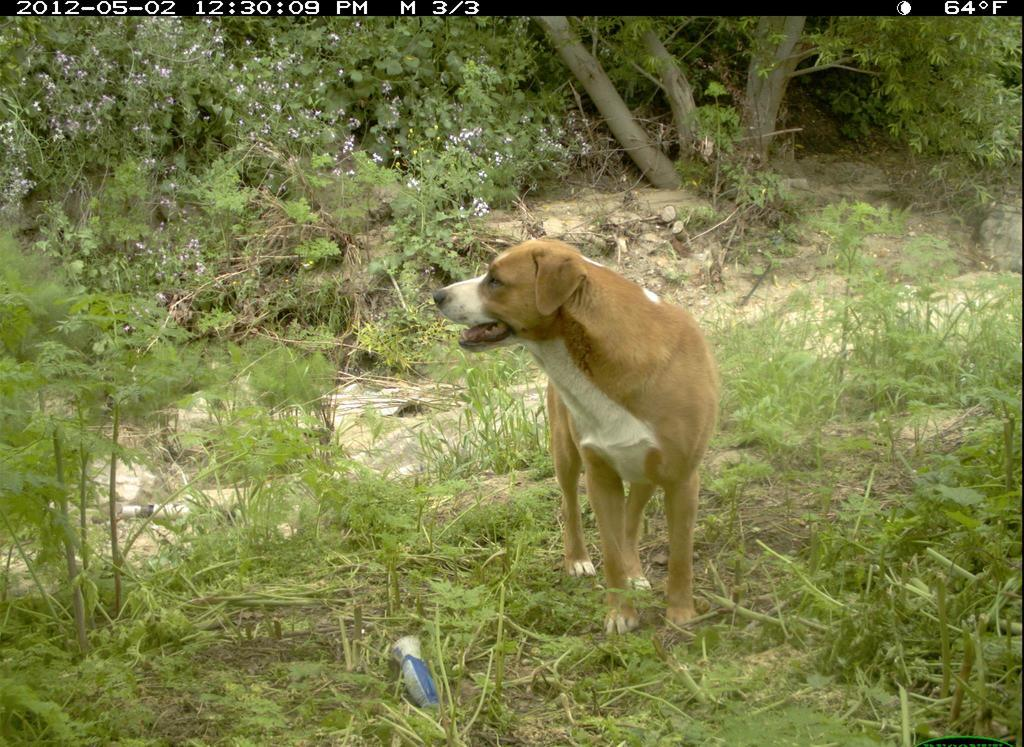dog: (429, 233, 725, 642)
